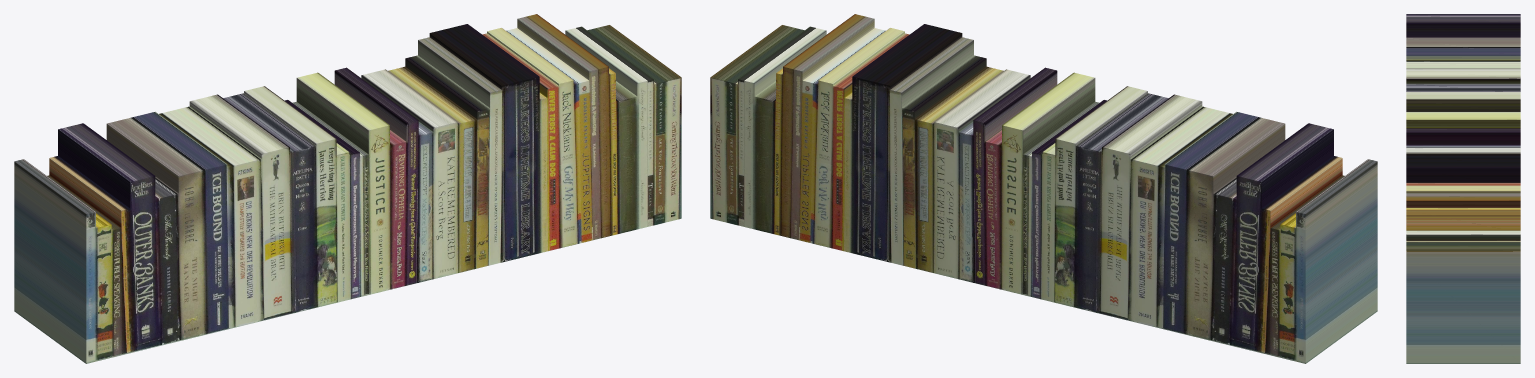
File: books-long-97.glb
3 views of the same model, side by side, from view 1: azimuth 30°, elevation 25°; view 2: azimuth 150°, elevation 25°; view 3: azimuth 270°, elevation 25° (orthographic). The views are drawn at different scales.
Parts seen in each view (by area): view 1: books-long; view 2: books-long; view 3: books-long.
Boxes of the visible parts, x1,y1,x2,y2 form: books-long: [14, 14, 681, 363]; books-long: [710, 14, 1377, 363]; books-long: [1406, 14, 1520, 363].
Bounding box in the file's own units: 97.03 × 27.52 × 20.32.
1 material, 1 textured.
